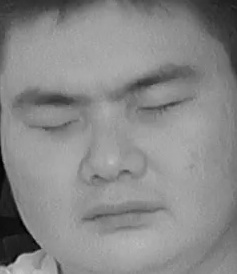blink: (140, 90, 193, 123), (33, 109, 79, 142)
mouth: (74, 193, 165, 242)
